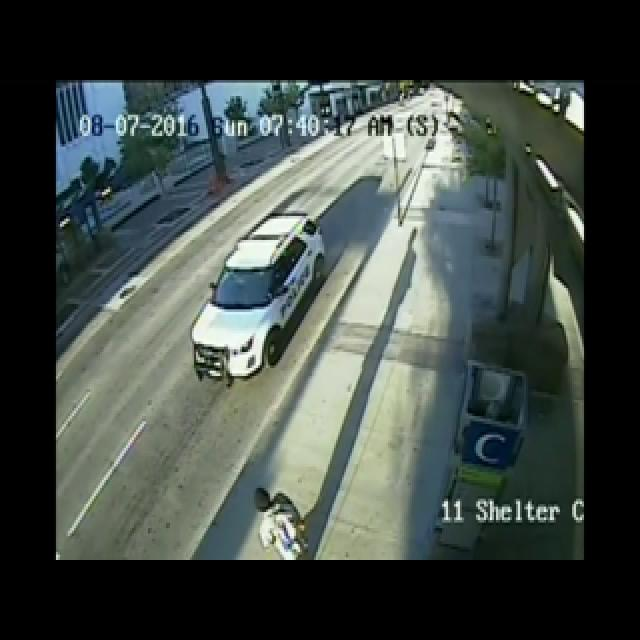arrest: (133, 124, 335, 640)
